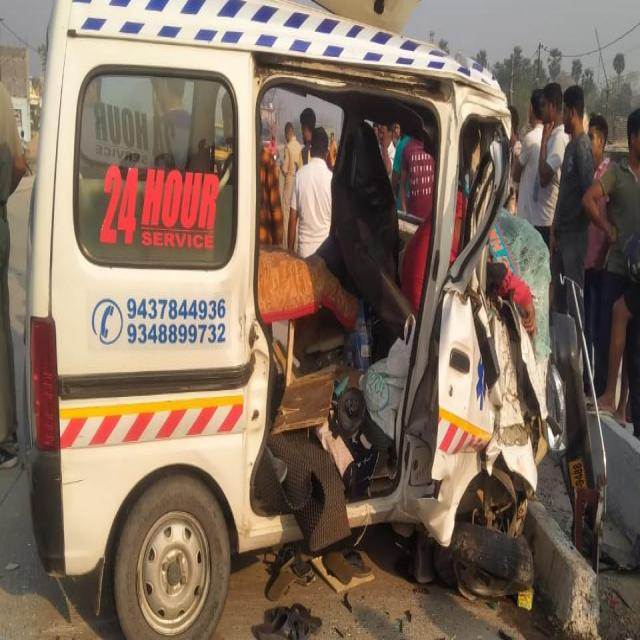accident: (25, 0, 560, 638)
